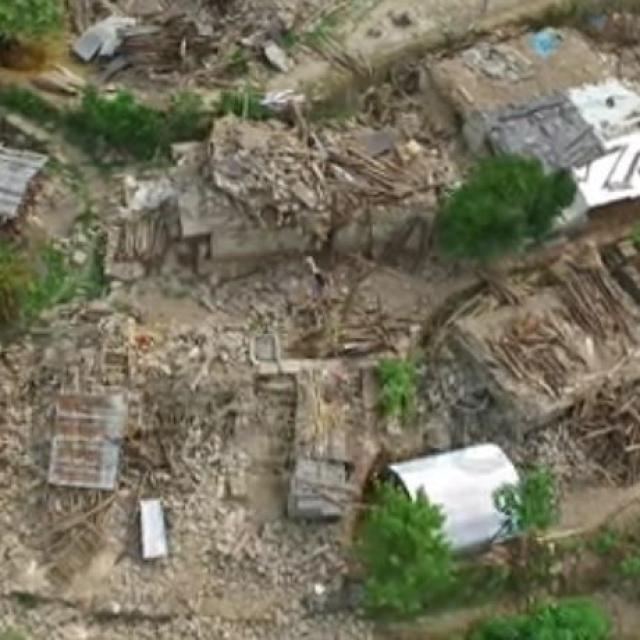collapsed_building: (91, 18, 638, 301), (247, 277, 638, 530)
